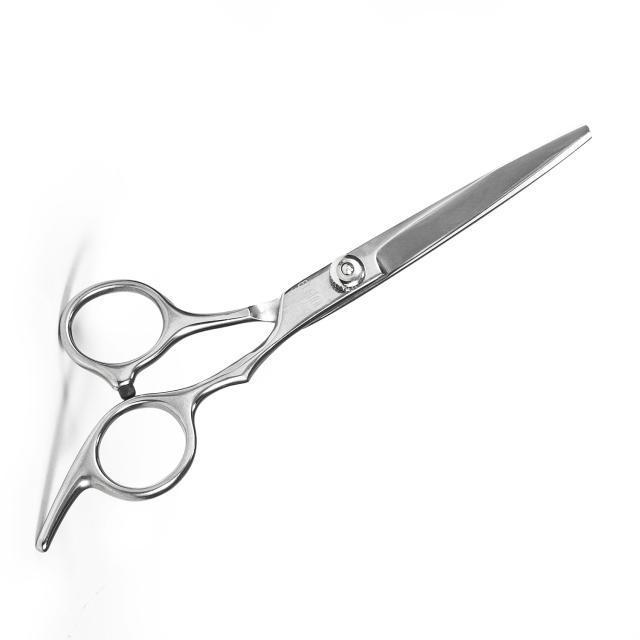scissor: (29, 121, 600, 560)
